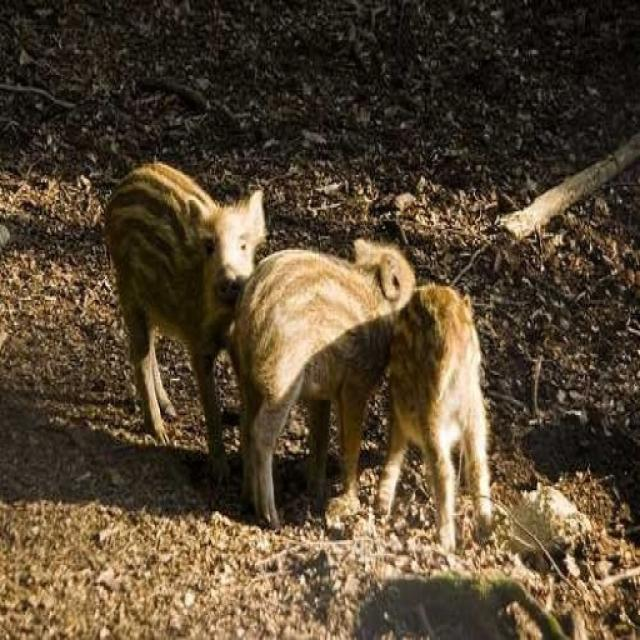pig: (61, 109, 247, 446), (240, 196, 397, 494), (378, 271, 530, 527)
